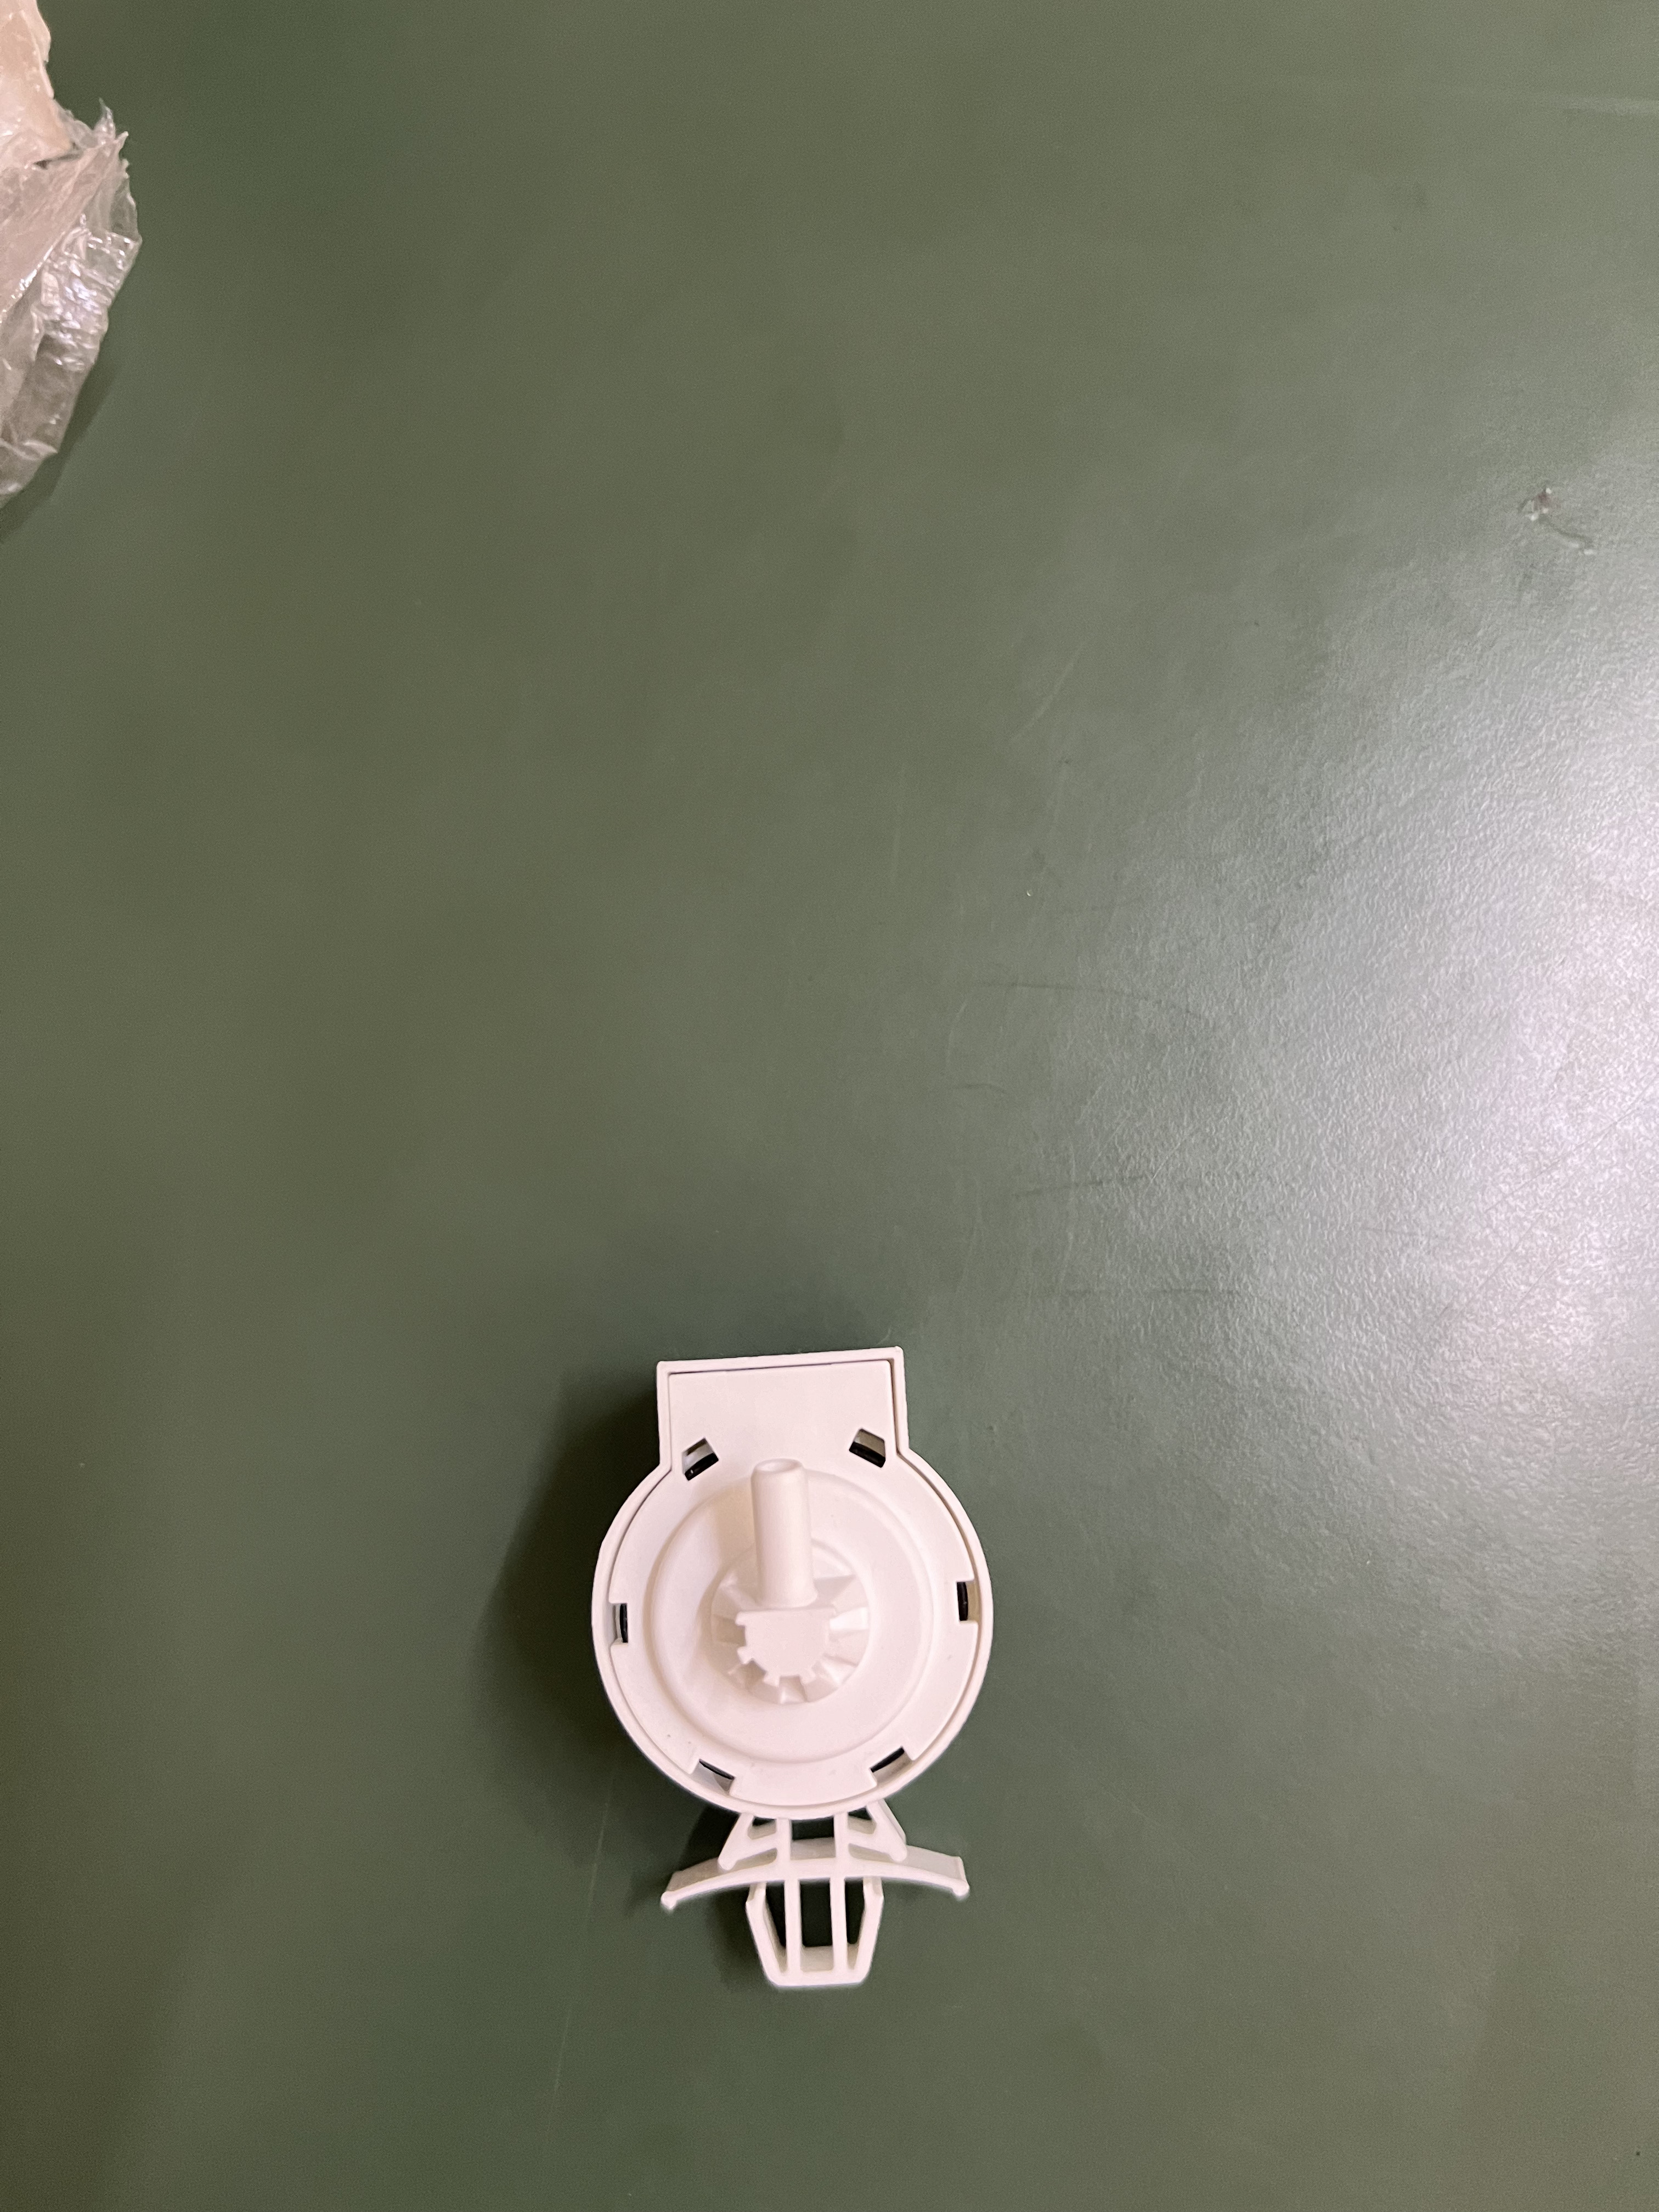pressure_switch_1: (535, 1317, 1033, 2026)
